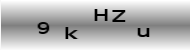9: (36, 21, 50, 34)
H: (93, 7, 107, 22)
Z: (111, 9, 126, 23)
k: (64, 25, 78, 40)
u: (137, 26, 150, 38)
